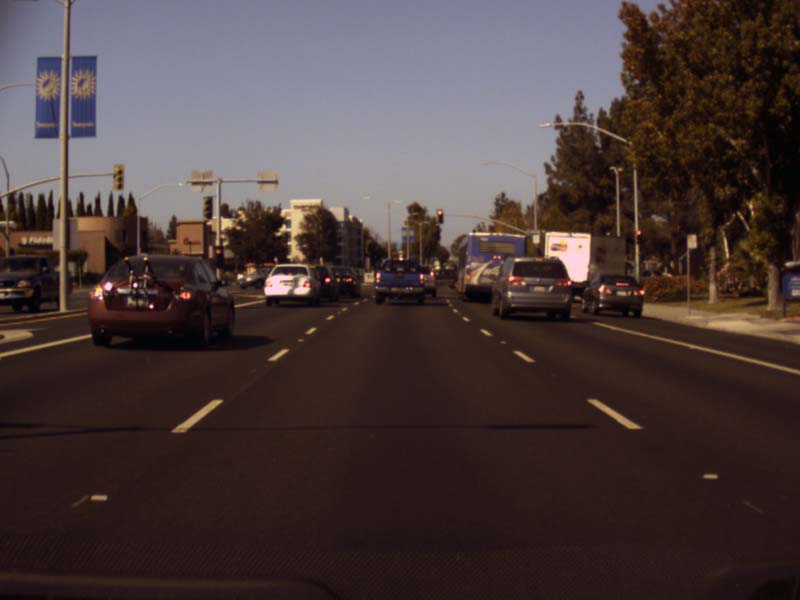Red: (211, 245, 225, 270), (635, 230, 644, 245), (436, 209, 443, 223)
